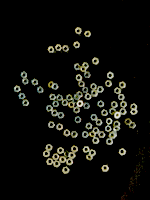nut: (62, 167, 70, 175), (101, 165, 109, 173), (119, 148, 127, 156), (46, 158, 54, 166), (45, 144, 53, 152), (92, 137, 100, 145), (106, 138, 114, 146), (125, 118, 133, 126), (101, 109, 109, 117), (109, 108, 117, 116), (97, 100, 105, 108), (73, 93, 81, 101), (105, 80, 113, 88), (75, 74, 83, 82), (92, 57, 100, 65), (47, 46, 55, 54), (53, 161, 61, 168), (59, 157, 67, 164), (66, 159, 74, 166), (52, 154, 60, 161), (57, 147, 64, 155), (82, 147, 90, 154), (48, 121, 55, 129), (71, 131, 78, 139), (82, 131, 89, 139), (109, 132, 116, 140), (98, 132, 106, 139), (89, 131, 97, 138), (129, 122, 137, 129), (95, 119, 103, 126), (75, 116, 82, 124), (57, 112, 65, 119), (119, 108, 127, 115), (130, 109, 138, 116), (120, 101, 128, 108), (111, 101, 118, 109), (114, 87, 121, 95), (119, 82, 127, 89), (83, 103, 91, 110), (52, 101, 60, 108), (18, 93, 26, 100), (13, 86, 21, 93), (37, 86, 44, 94), (61, 100, 69, 107), (68, 101, 75, 109), (66, 94, 73, 102), (91, 89, 98, 97), (80, 65, 87, 73), (74, 63, 81, 71), (55, 44, 62, 52), (62, 45, 69, 53), (73, 41, 80, 49), (75, 27, 82, 35), (84, 31, 92, 38), (43, 151, 50, 158), (64, 151, 71, 158), (71, 146, 78, 153), (86, 154, 93, 161), (89, 150, 96, 157), (56, 124, 63, 131), (111, 131, 118, 138), (93, 128, 100, 135), (105, 126, 112, 133), (106, 118, 113, 125), (86, 123, 93, 130), (91, 114, 98, 121), (51, 110, 58, 117), (46, 105, 53, 112), (114, 112, 121, 119), (118, 94, 125, 101), (73, 107, 80, 114), (22, 100, 29, 107), (31, 79, 38, 86), (22, 78, 29, 85), (21, 72, 28, 79), (49, 94, 56, 101), (56, 95, 63, 102), (48, 82, 55, 89), (52, 83, 59, 90), (77, 101, 84, 108), (76, 91, 83, 98), (85, 93, 92, 100), (82, 87, 89, 94), (97, 86, 104, 93), (107, 72, 114, 79), (78, 81, 85, 88), (84, 72, 91, 79), (82, 62, 89, 69), (64, 129, 70, 137), (113, 126, 121, 132), (113, 121, 121, 127), (130, 104, 138, 110), (69, 153, 76, 159), (73, 97, 79, 104), (91, 83, 97, 90), (92, 92, 99, 97)
